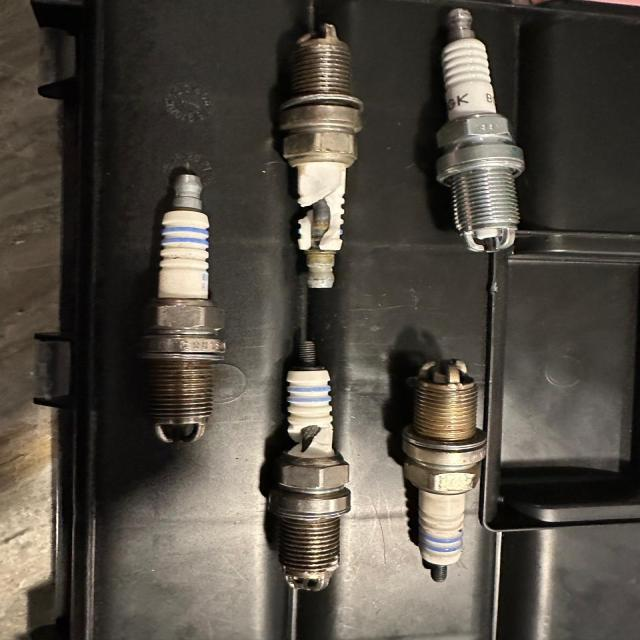damaged_spark-plug: (282, 22, 358, 288), (274, 340, 354, 582)
spark-plug: (429, 7, 527, 255), (144, 166, 228, 445), (400, 354, 484, 582)
